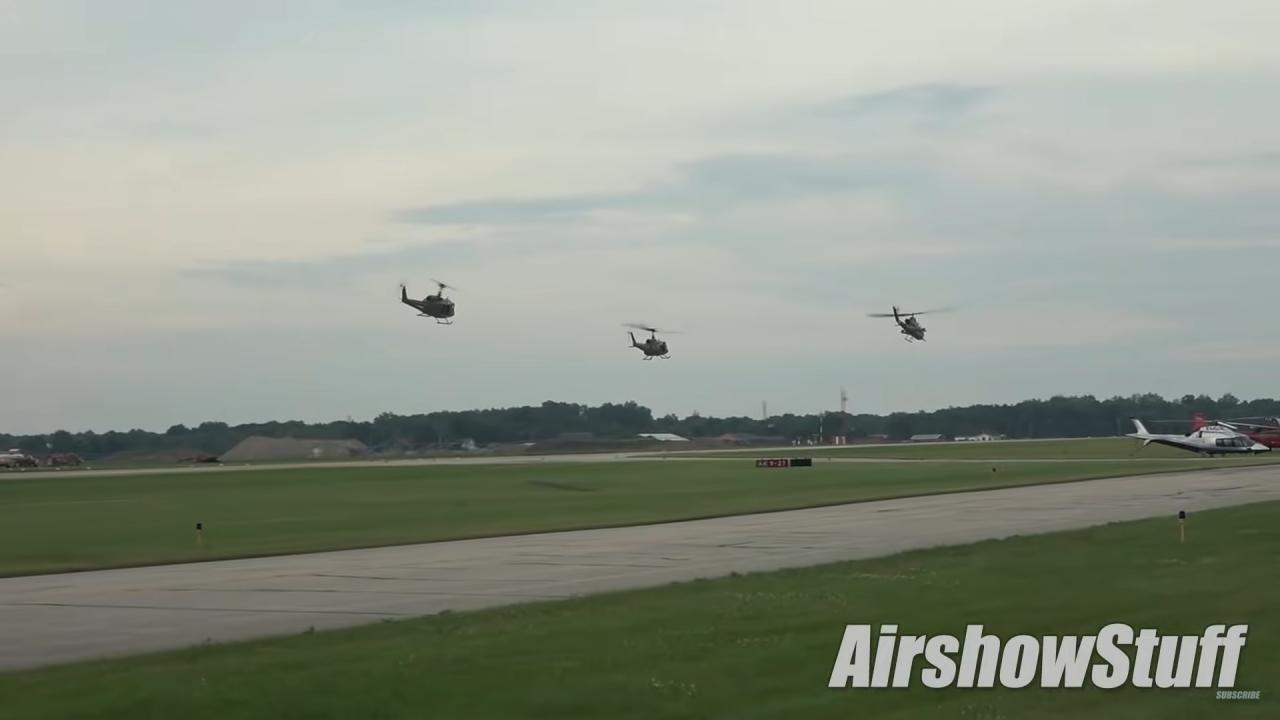Helicopter: (376, 262, 496, 340), (854, 288, 976, 361), (601, 306, 710, 377)
